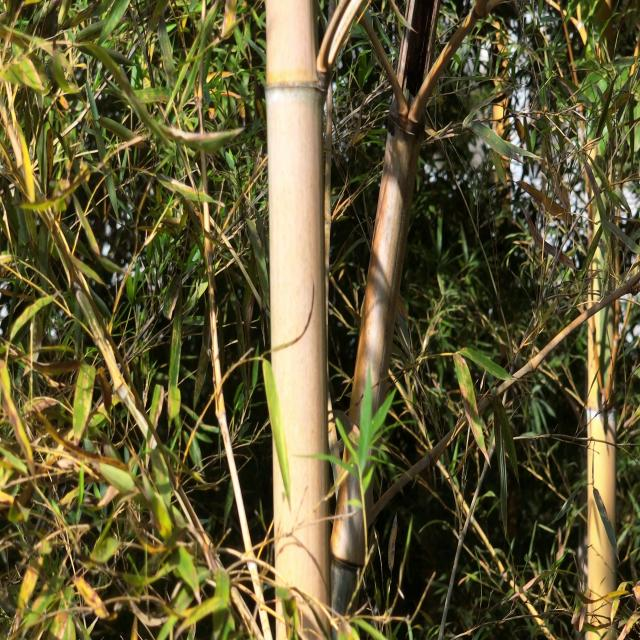Bamboo-shoots: (266, 0, 330, 640)
